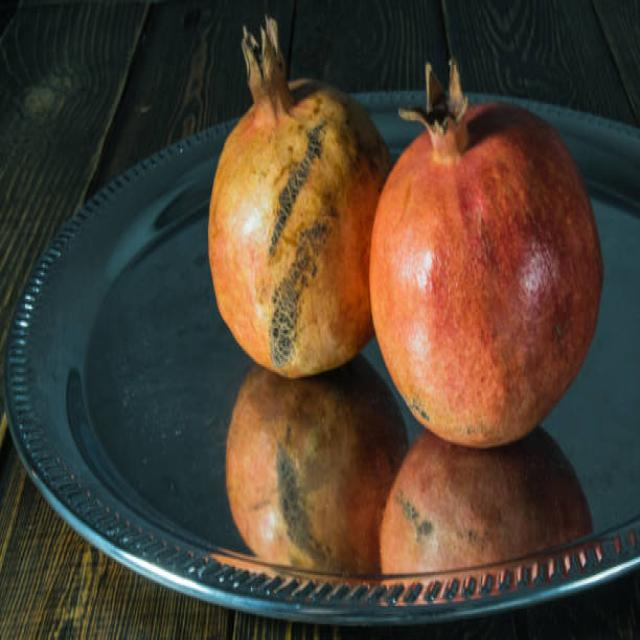overripe: (370, 43, 610, 453), (205, 7, 374, 379)
